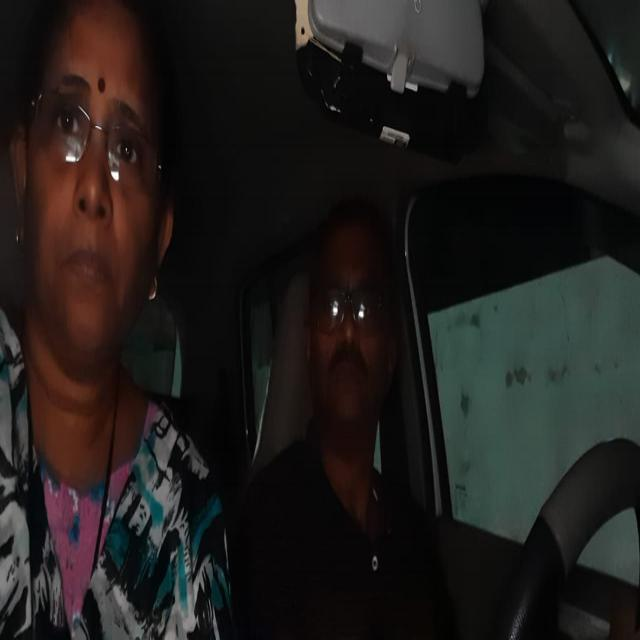LeftRight: (294, 178, 409, 489)
person: (7, 4, 179, 401)
